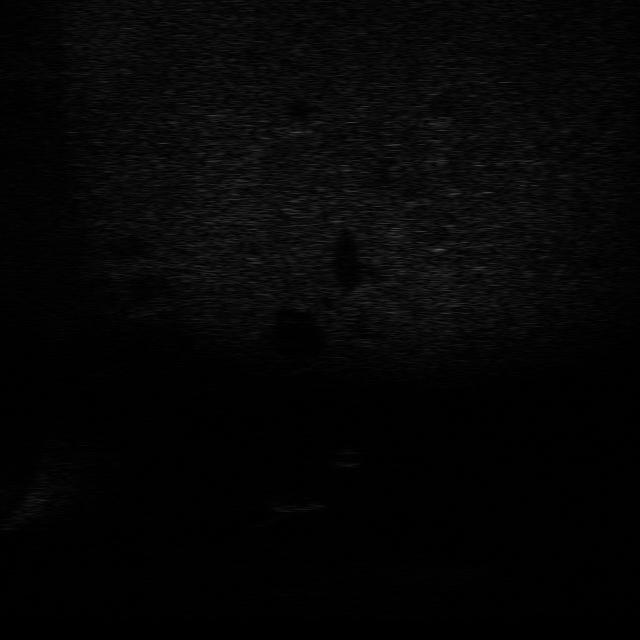ball: (321, 441, 371, 472)
square cage: (258, 486, 334, 518)
